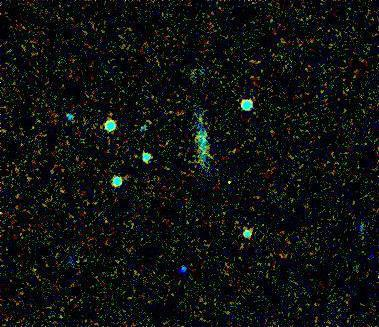star: (211, 165, 241, 195)
